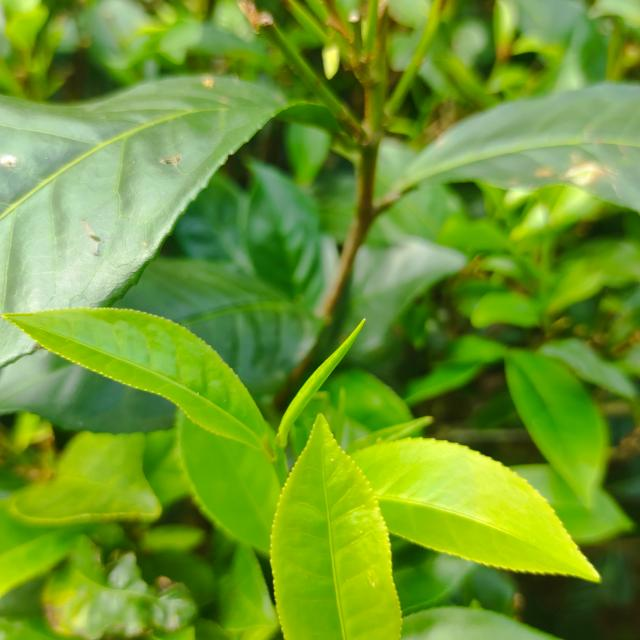unopened_leaf: (267, 311, 371, 463)
